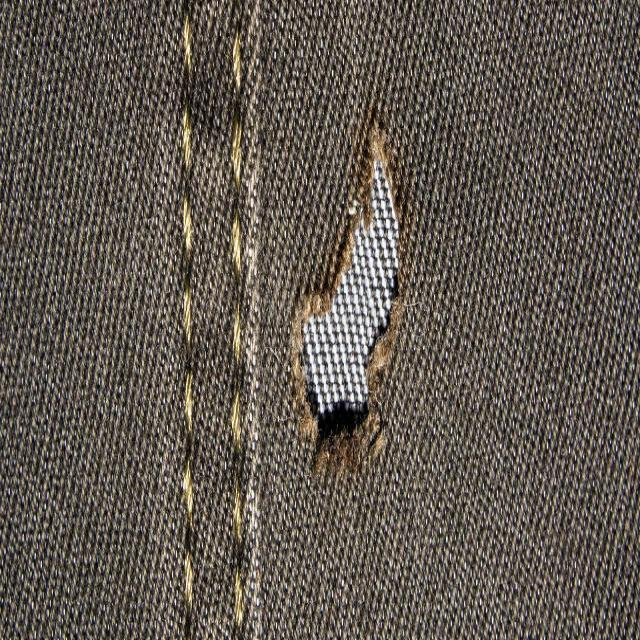Hole: (294, 119, 402, 474)
Line: (231, 18, 258, 640), (183, 0, 196, 640)
